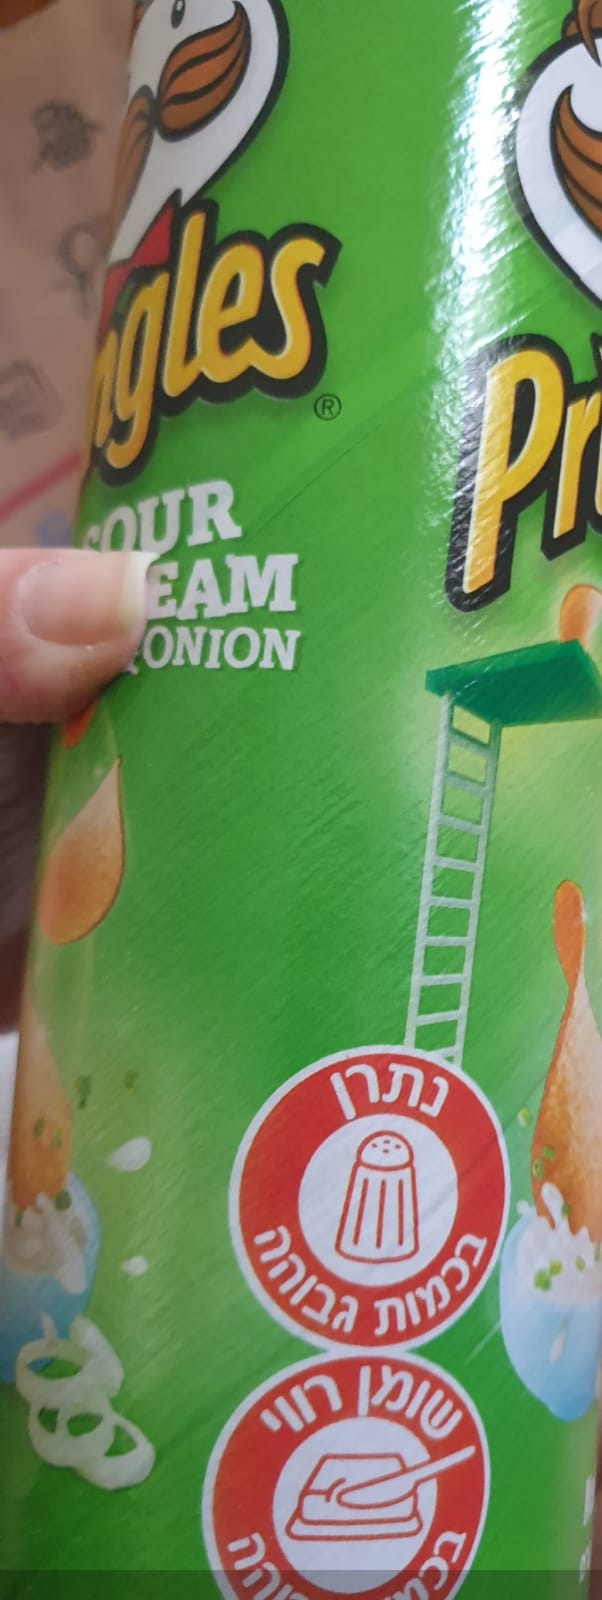fat: (197, 1350, 492, 1600)
salt: (223, 1045, 512, 1346)
